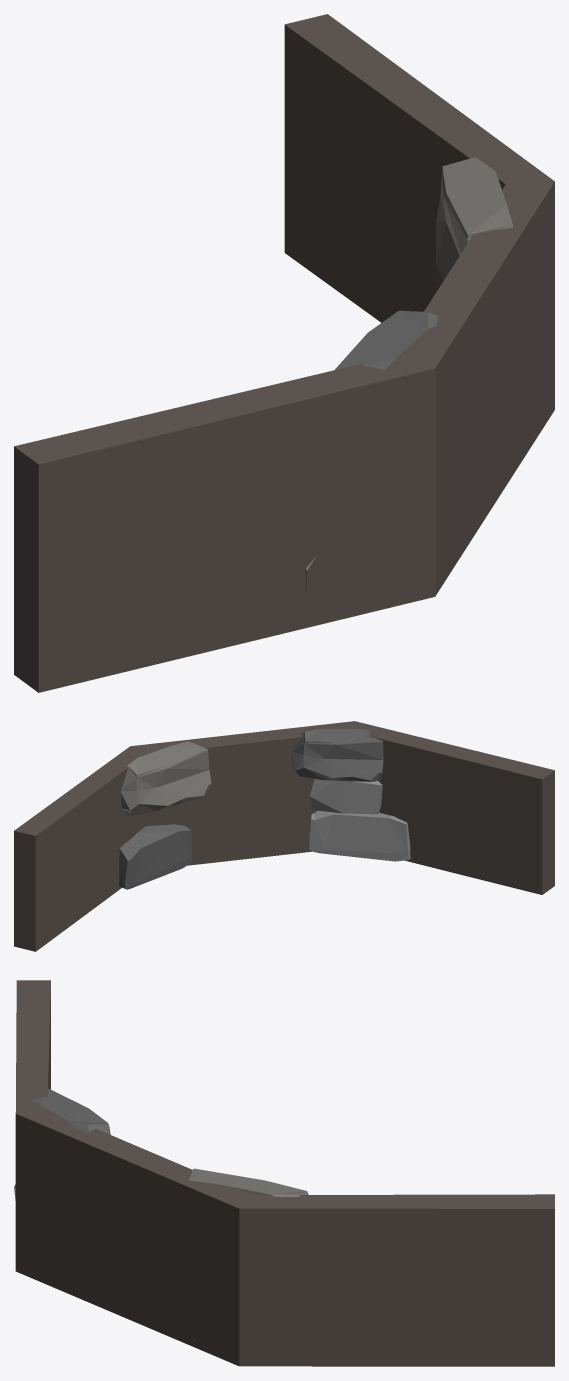
The model's file is MCastle_OctWall_Int_14.FBX.
3 renders of one model, top to bottom at view 1: azimuth 30°, elevation 25°; view 2: azimuth 150°, elevation 25°; view 3: azimuth 270°, elevation 25°, orthographic. The views are drawn at different scales.
Parts seen in each view (by area): view 1: MCastle_OctWall_Int_14_LOD0; view 2: MCastle_OctWall_Int_14_LOD0; view 3: MCastle_OctWall_Int_14_LOD0.
Boxes of the visible parts, x1,y1,x2,y2 form: MCastle_OctWall_Int_14_LOD0: (14, 14, 554, 692); MCastle_OctWall_Int_14_LOD0: (14, 721, 554, 951); MCastle_OctWall_Int_14_LOD0: (14, 980, 554, 1366).
Size of what is drawn, in the model's own units: 155 by 52.61 by 155.
